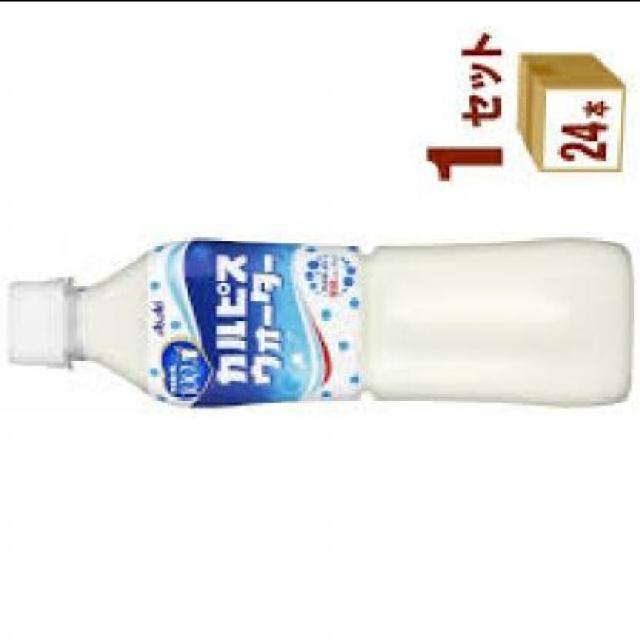PLASTIC: (6, 239, 628, 410), (3, 278, 71, 372)
